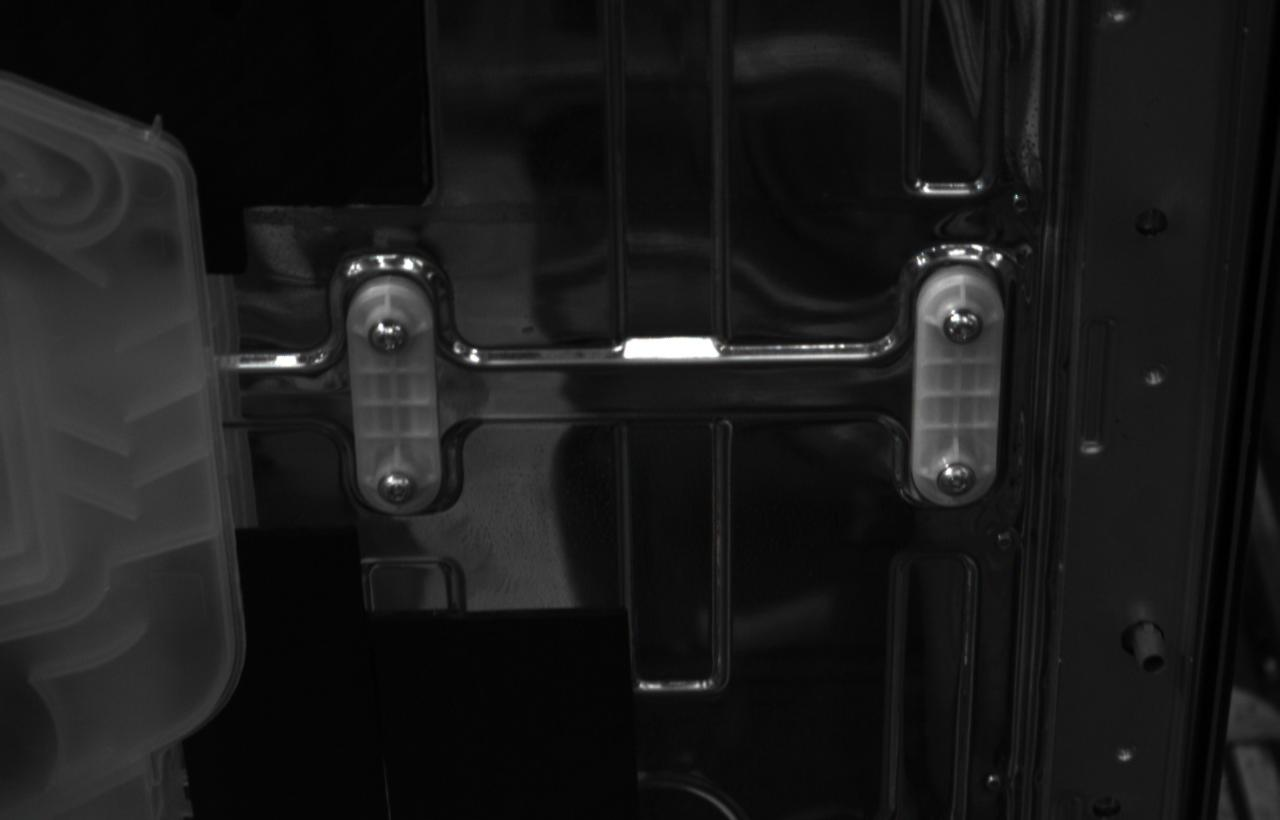vida-ok: (367, 317, 409, 356), (943, 308, 983, 346), (937, 463, 976, 498), (377, 471, 416, 505)
